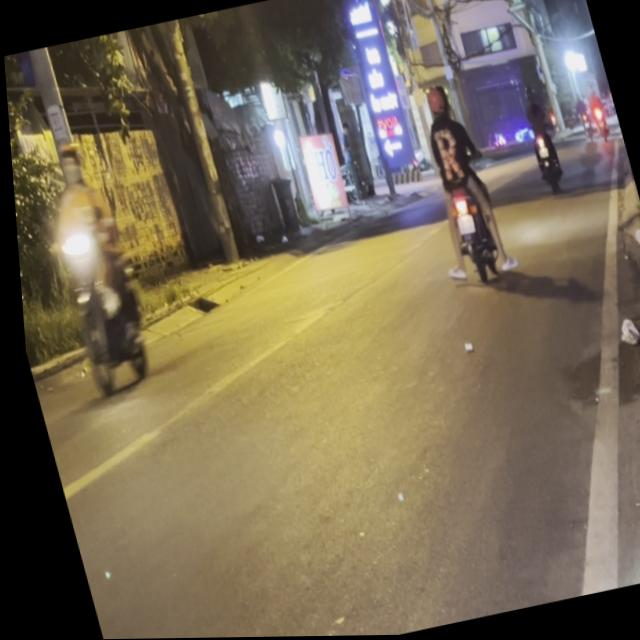helmet: (51, 141, 83, 187), (421, 84, 447, 120)
licenseplate: (20, 133, 163, 406), (403, 79, 512, 292)
nohelmet: (452, 216, 473, 237)
